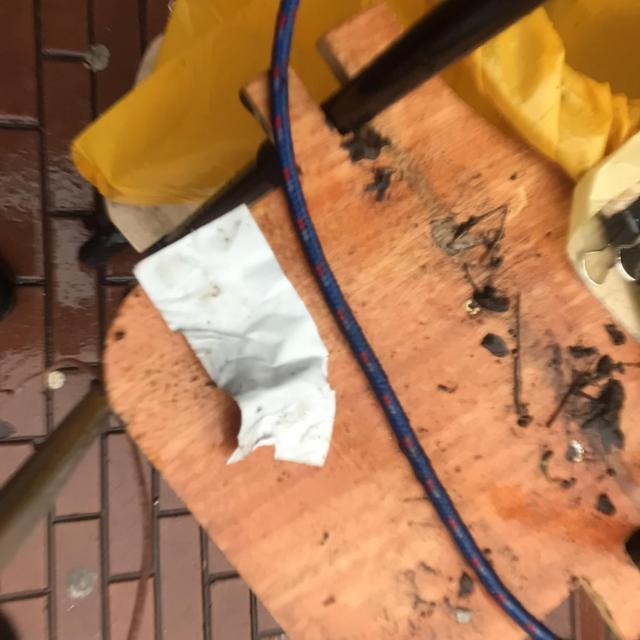Paper: (130, 201, 338, 472)
